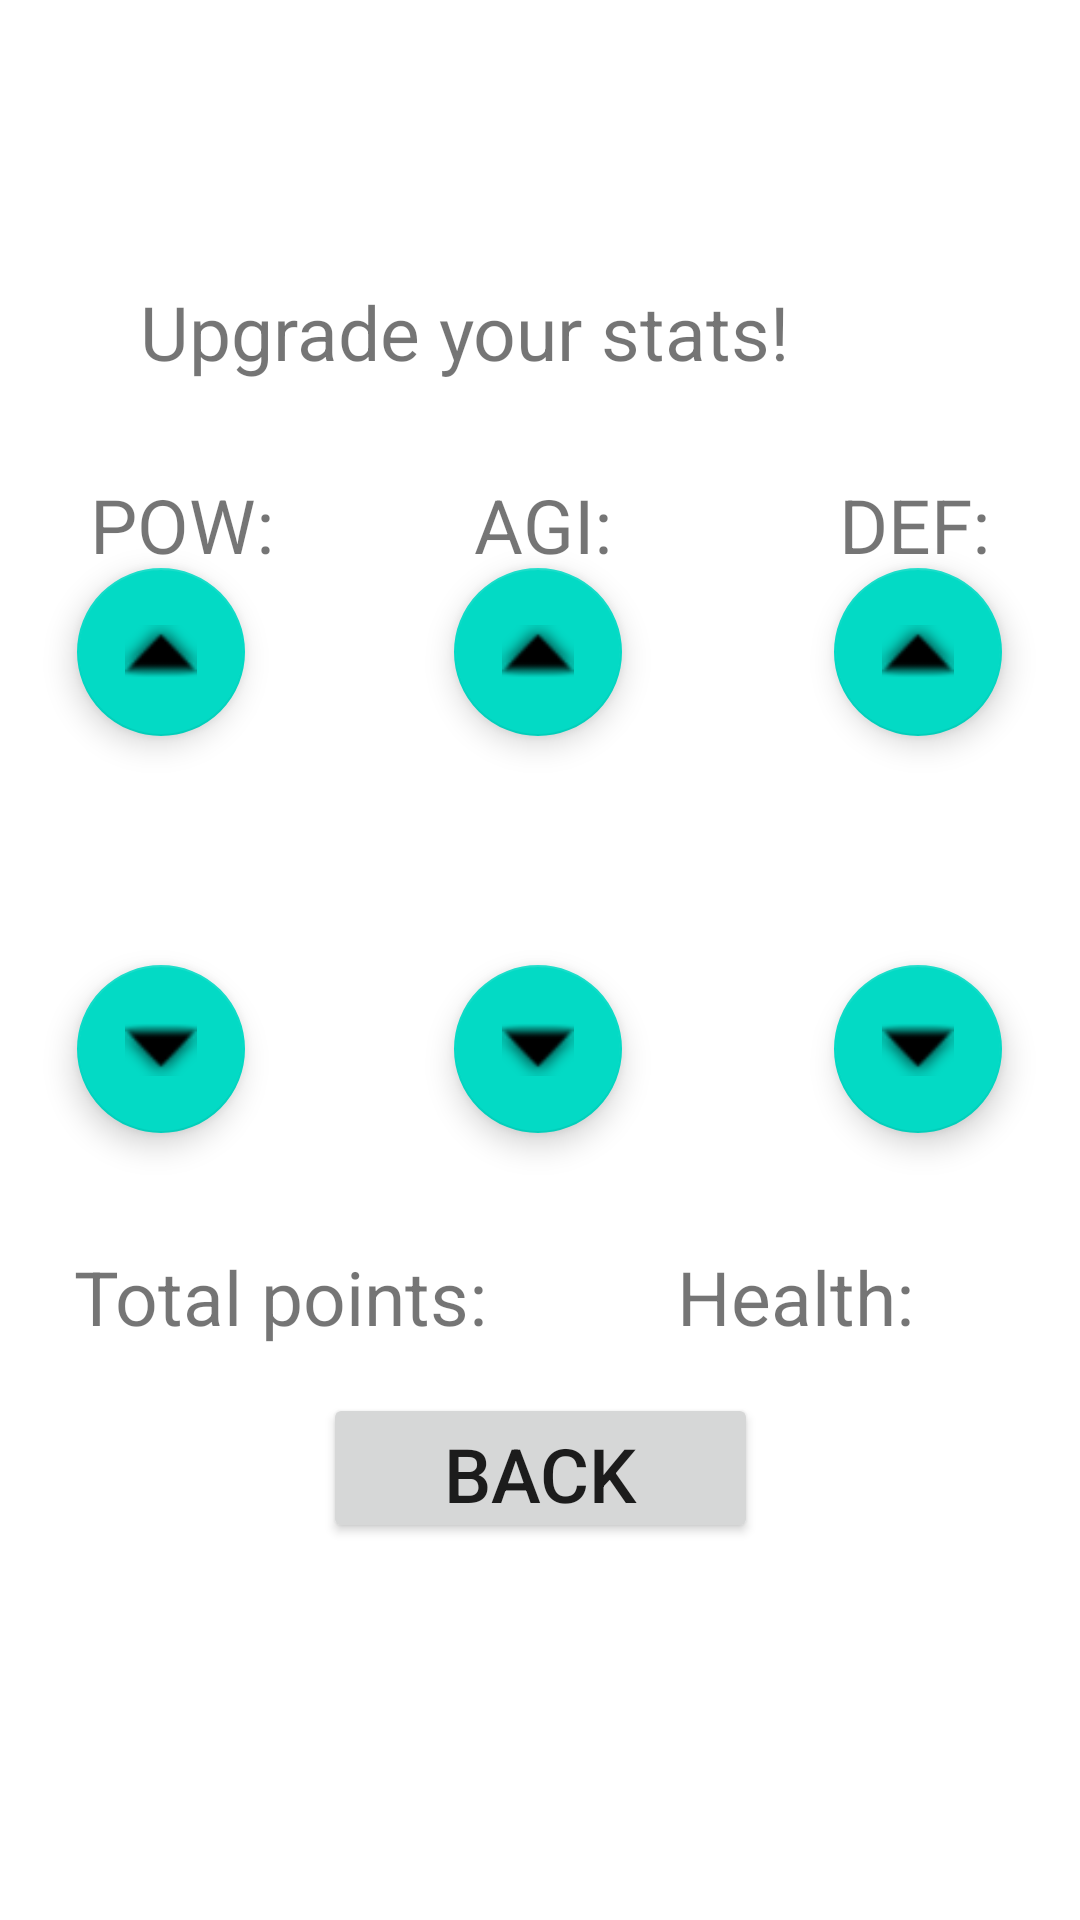

Screen size 1080px x 1920px. Icon name, then its center in pixels as point (x, y):
arrow down float: point (161, 1049), point (538, 1049), point (918, 1049)
arrow up float: point (161, 652), point (538, 652), point (918, 652)
